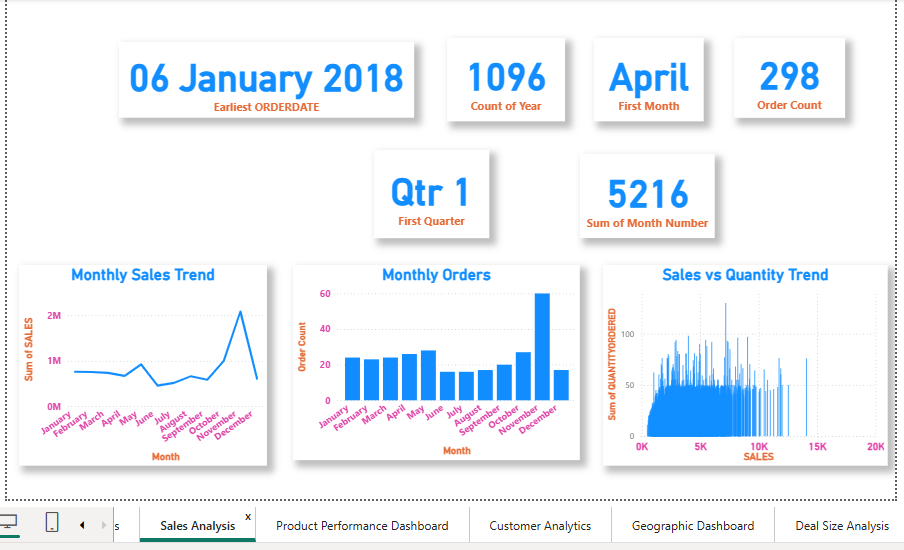

The dashboard page shown, as its layout file describes it:
{"tool":"powerbi","page":{"name":"Sales Analysis","canvas":[1280,720],"ordinal":1},"visuals":[{"type":"lineChart","title":"Monthly Sales Trend","fields":{"Category":["DateTable.Date.Variation.Date Hierarchy.Month"],"Y":["Sum(Auto Sales data.SALES)"]},"box":[17.3,383,357.1,289.4],"z":0},{"type":"lineStackedColumnComboChart","title":"Sales vs Quantity Trend","fields":{"Category":["Auto Sales data.SALES"],"Y":["Sum(Auto Sales data.QUANTITYORDERED)"]},"box":[858.2,383,410.4,289.4],"z":1000},{"type":"columnChart","title":"Monthly Orders","fields":{"Category":["DateTable.Date.Variation.Date Hierarchy.Month"],"Y":["Auto Sales data.Order Count"]},"box":[411.8,383,413.3,280.8],"z":2000},{"type":"card","fields":{"Values":["Min(Auto Sales data.ORDERDATE)"]},"box":[161.3,61.9,424.8,109.4],"z":3000},{"type":"card","fields":{"Values":["CountNonNull(DateTable.Date.Variation.Date Hierarchy.Year)"]},"box":[633.6,56.2,169.9,119.5],"z":4000},{"type":"card","fields":{"Values":["Sum(DateTable.Month Number)"]},"box":[825.1,223.2,194.4,121],"z":5000},{"type":"card","fields":{"Values":["Min(DateTable.Date.Variation.Date Hierarchy.Quarter)"]},"box":[528.5,217.4,165.6,126.7],"z":6000},{"type":"card","fields":{"Values":["Min(DateTable.Date.Variation.Date Hierarchy.Month)"]},"box":[845.3,56.2,158.4,119.5],"z":7000},{"type":"card","fields":{"Values":["Auto Sales data.Order Count"]},"box":[1046.9,56.2,159.8,115.2],"z":8000}]}

Visuals, with their boxes on the page's 1280x720 design canvas (x1, y1, x2, y2). These are canvas units, not pixel positions in the 904x550 screenshot, which may show the page scaled, cropped or inside an application window:
"Monthly Sales Trend" lineChart: {"x1": 17, "y1": 383, "x2": 374, "y2": 672}
"Sales vs Quantity Trend" lineStackedColumnComboChart: {"x1": 858, "y1": 383, "x2": 1269, "y2": 672}
"Monthly Orders" columnChart: {"x1": 412, "y1": 383, "x2": 825, "y2": 664}
card - Min(Auto Sales data.ORDERDATE): {"x1": 161, "y1": 62, "x2": 586, "y2": 171}
card - CountNonNull(DateTable.Date.Variation.Date Hierarchy.Year): {"x1": 634, "y1": 56, "x2": 804, "y2": 176}
card - Sum(DateTable.Month Number): {"x1": 825, "y1": 223, "x2": 1020, "y2": 344}
card - Min(DateTable.Date.Variation.Date Hierarchy.Quarter): {"x1": 528, "y1": 217, "x2": 694, "y2": 344}
card - Min(DateTable.Date.Variation.Date Hierarchy.Month): {"x1": 845, "y1": 56, "x2": 1004, "y2": 176}
card - Auto Sales data.Order Count: {"x1": 1047, "y1": 56, "x2": 1207, "y2": 171}
